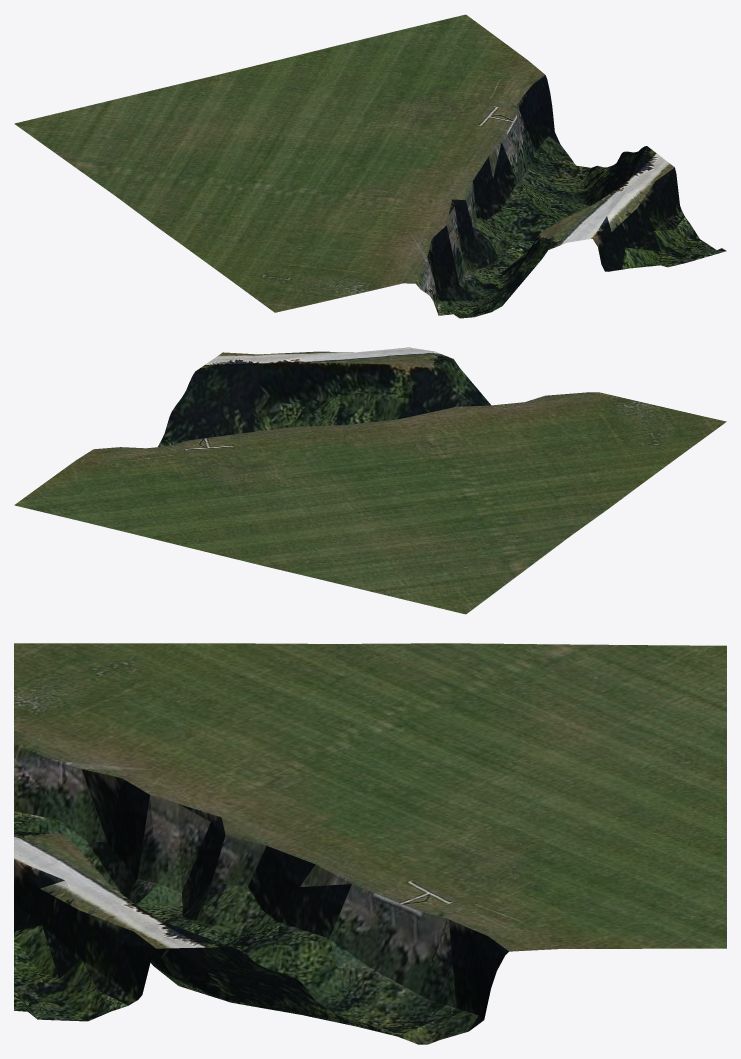
Rendered from map_15_8179_13786.dae.
The picture shows the model from 3 angles, top to bottom: view 1: azimuth 30°, elevation 25°; view 2: azimuth 150°, elevation 25°; view 3: azimuth 270°, elevation 25°; orthographic projection. The views are drawn at different scales.
Parts seen in each view (by area): view 1: Ter0; view 2: Ter0; view 3: Ter0.
Part boxes in pixels (box(x1,y1,x2,y2)): Ter0: box(14, 14, 726, 318); Ter0: box(14, 347, 726, 614); Ter0: box(14, 643, 726, 1044).
Bounding box in the file's own units: 63.87 × 63.88 × 9.98.
3 materials, 3 textured.
